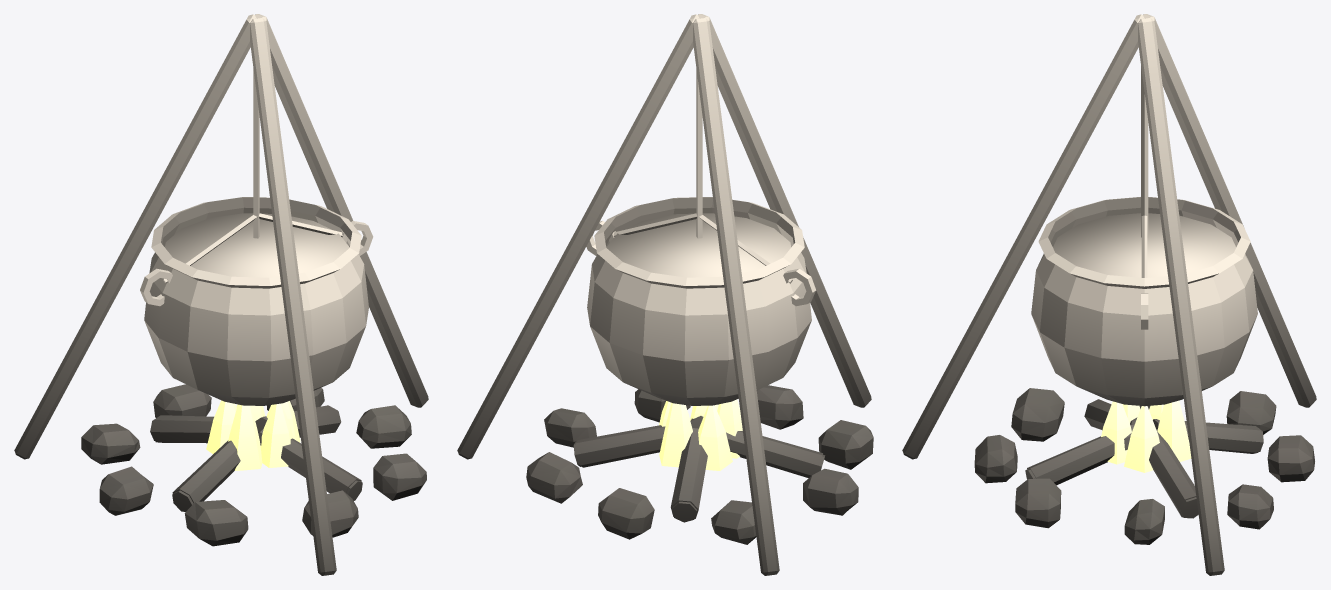
Rendered from SM_VK_Prop_Cauldron.fbx.
3 views of the same model, side by side, from view 1: azimuth 30°, elevation 25°; view 2: azimuth 150°, elevation 25°; view 3: azimuth 270°, elevation 25° (orthographic).
Parts seen in each view (by area): view 1: SM_VK_Prop_Cauldron.001; view 2: SM_VK_Prop_Cauldron.001; view 3: SM_VK_Prop_Cauldron.001.
Part boxes in pixels (x1,y1,x2,y2): SM_VK_Prop_Cauldron.001: [14, 14, 428, 575]; SM_VK_Prop_Cauldron.001: [457, 14, 873, 575]; SM_VK_Prop_Cauldron.001: [902, 14, 1316, 575].
Bounding box in the file's own units: 1.75 × 2.12 × 1.72.
